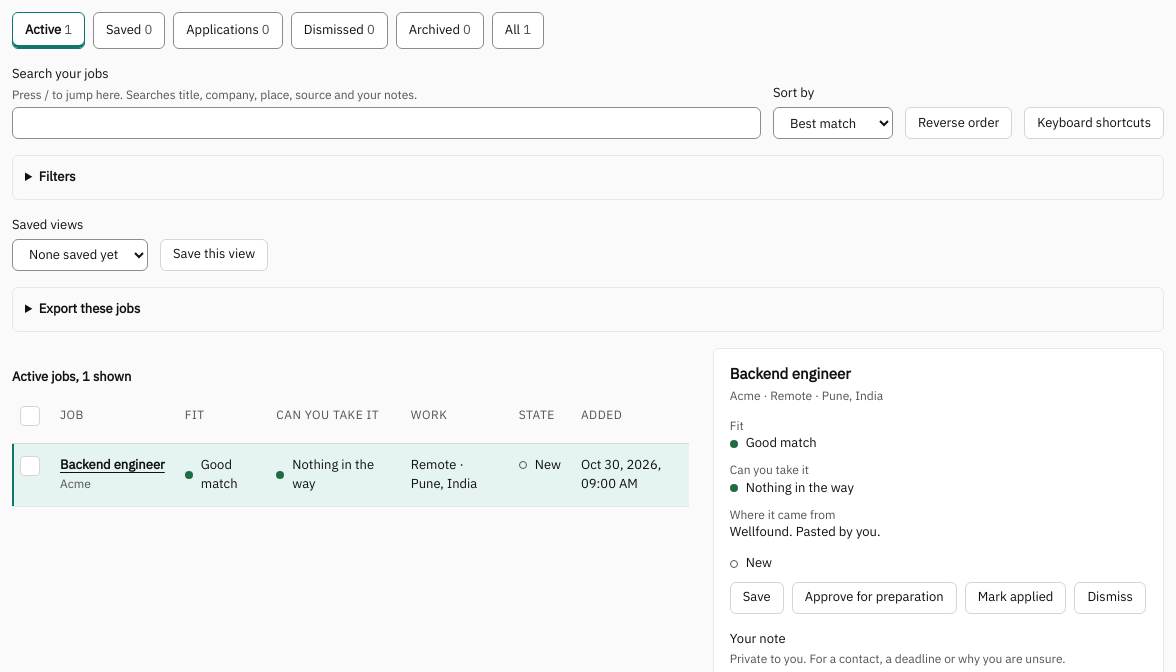
Scenario: Workbench › does not treat typing in the search box as a shortcut
Expected: the link "Backend engineer" is shown, [60, 456, 165, 473]
Click the search field labelled "Search your jobs" at coordinates (386, 123), box [12, 107, 761, 139]
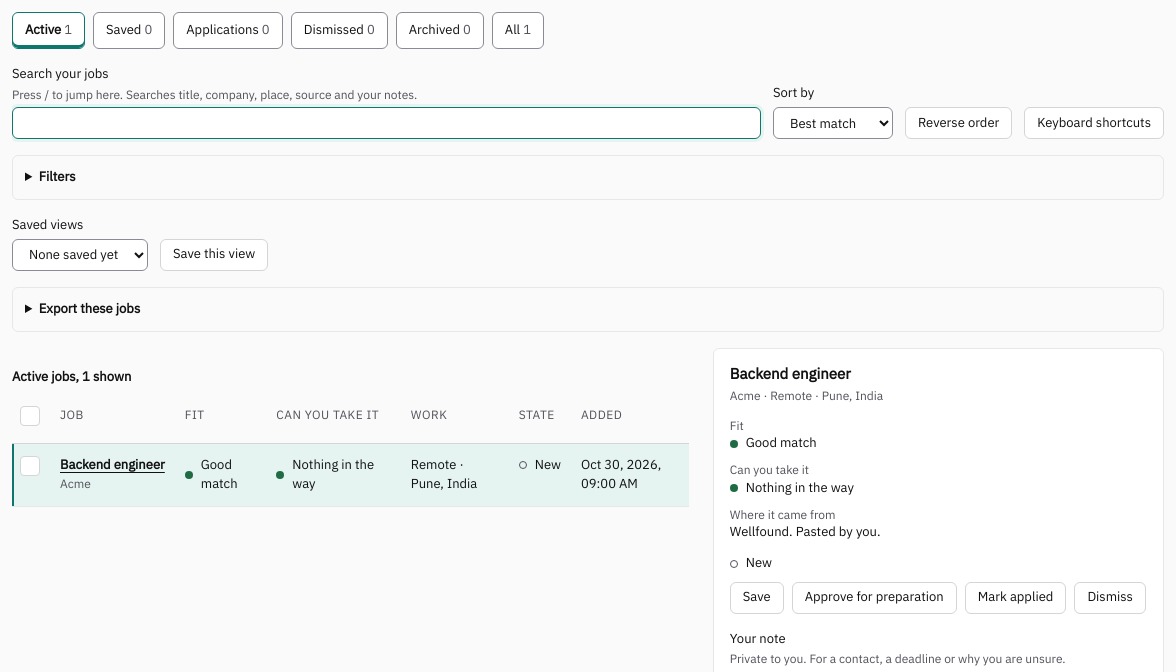
Type keys "sdp"
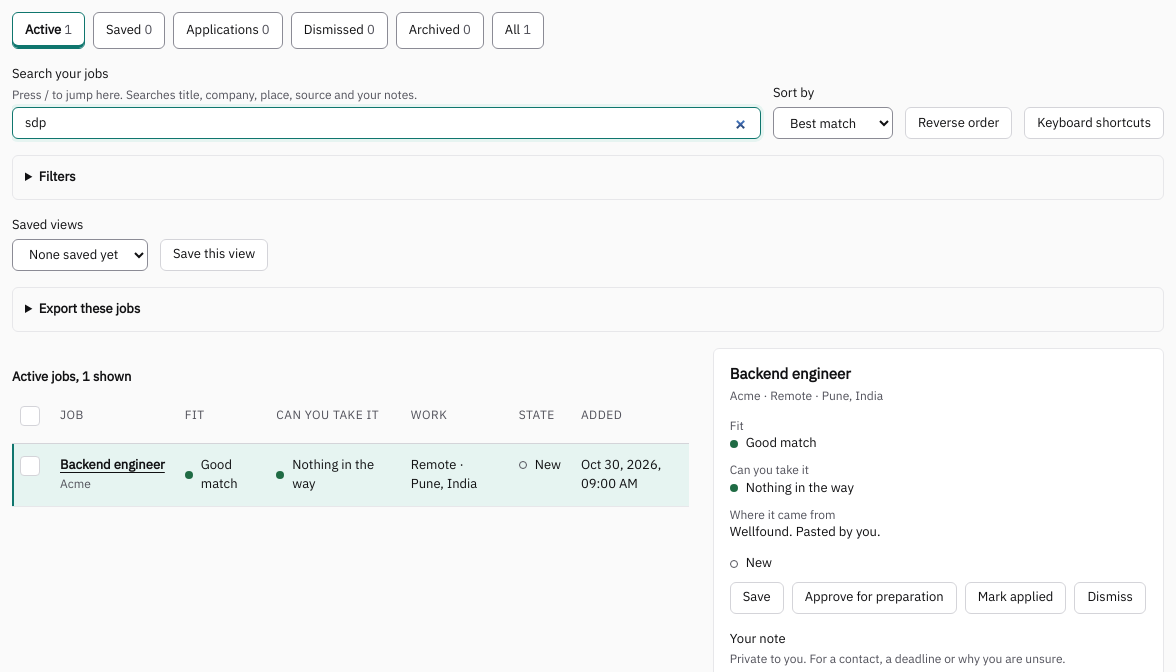
Now the search field labelled "Search your jobs" holds "sdp", box [12, 107, 761, 139]
